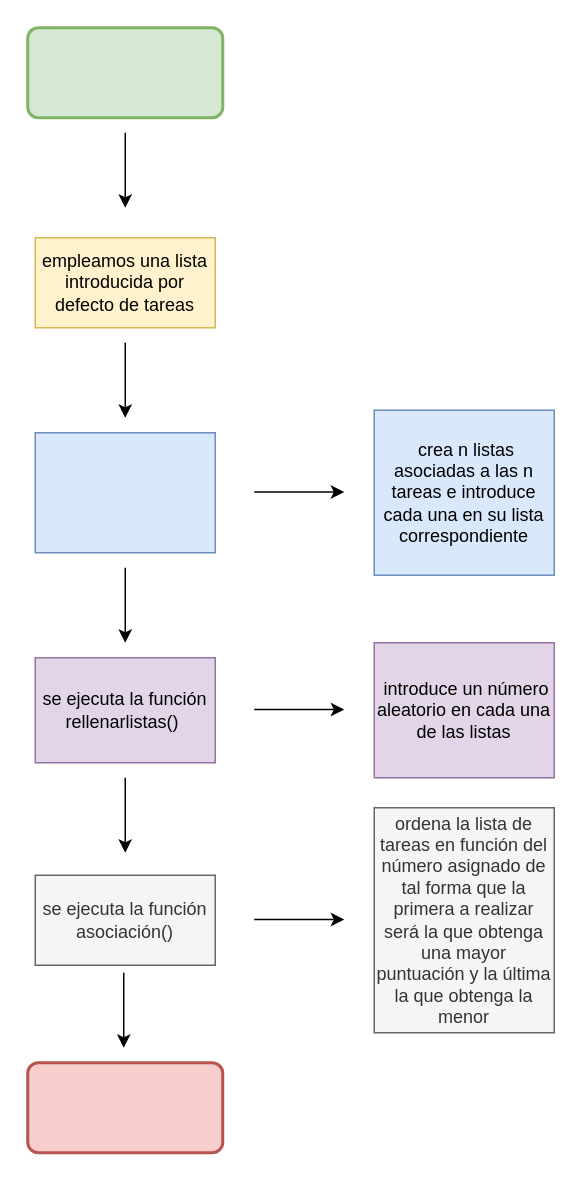
The diagram is 581 pixels wide and 1179 high, and some of its shapes have lost their labels. The shapes that lost their labels are listed below. From the top down, each one's centre as x and y in pixels, then its label:
At pixel 125 72: "INICIO".
At pixel 124 492: "se ejecuta la función diccionariolistas()".
At pixel 125 1107: "STOP".
